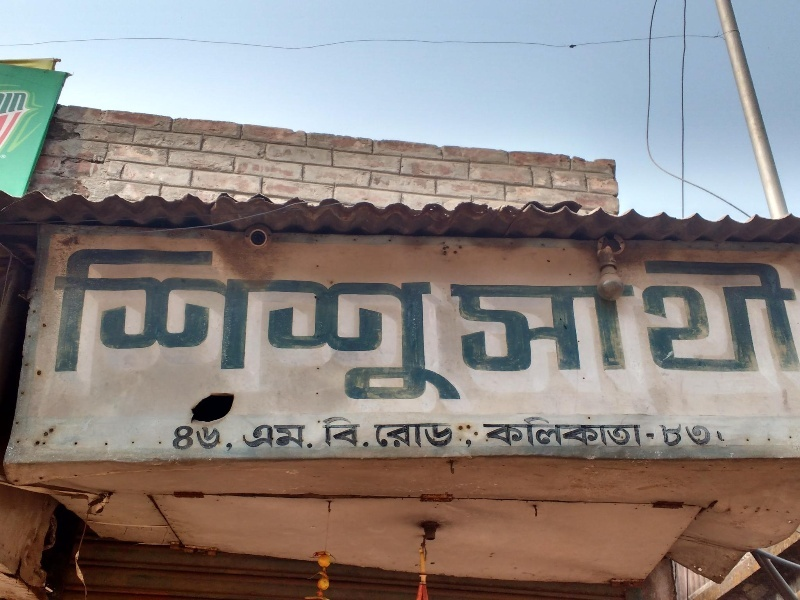text: (49, 243, 64, 410), (65, 243, 80, 410), (81, 243, 96, 410), (97, 243, 112, 410), (113, 243, 128, 410), (129, 243, 144, 410), (145, 243, 160, 410), (161, 243, 176, 410), (177, 243, 192, 410), (193, 243, 208, 410), (209, 243, 224, 410), (225, 243, 240, 410), (241, 243, 256, 410), (257, 243, 272, 410), (273, 243, 288, 410), (289, 243, 304, 410), (305, 243, 320, 410), (321, 243, 336, 410), (337, 243, 352, 410), (353, 243, 368, 410), (369, 243, 384, 410), (385, 243, 400, 410), (401, 243, 416, 410), (417, 243, 432, 410), (433, 243, 448, 410), (449, 243, 464, 410), (449, 253, 464, 376), (465, 253, 480, 376), (481, 253, 496, 376), (497, 253, 512, 376), (513, 253, 528, 376), (529, 253, 544, 376), (545, 253, 560, 376), (561, 253, 576, 376), (577, 253, 592, 376), (593, 253, 608, 376), (609, 253, 624, 376), (625, 253, 640, 376), (641, 253, 656, 376), (657, 253, 672, 376), (673, 253, 688, 376), (689, 253, 704, 376), (705, 253, 720, 376), (721, 253, 736, 376), (737, 253, 752, 376), (753, 253, 768, 376), (769, 253, 784, 376), (785, 253, 800, 376), (465, 243, 473, 410), (440, 253, 448, 376), (481, 415, 496, 452), (497, 415, 512, 452), (513, 415, 528, 452), (529, 415, 544, 452), (545, 415, 560, 452), (561, 415, 576, 452), (577, 415, 592, 452), (593, 415, 608, 452), (609, 415, 624, 452), (625, 415, 640, 452), (641, 415, 656, 452), (385, 421, 400, 457), (401, 421, 416, 457), (417, 421, 432, 457), (433, 421, 448, 457), (449, 421, 464, 457), (657, 419, 672, 454), (673, 419, 688, 454), (689, 419, 704, 454), (705, 419, 720, 454), (337, 417, 352, 451), (353, 417, 368, 451), (45, 243, 48, 410), (241, 420, 256, 452), (257, 420, 272, 452), (273, 420, 288, 452), (289, 420, 304, 452), (193, 423, 208, 454), (209, 423, 224, 454), (178, 423, 192, 454), (372, 421, 384, 457), (324, 417, 336, 451), (657, 415, 668, 452), (305, 420, 316, 452), (225, 423, 236, 454), (465, 421, 474, 457), (721, 419, 730, 454), (478, 415, 480, 452), (369, 417, 370, 451)
